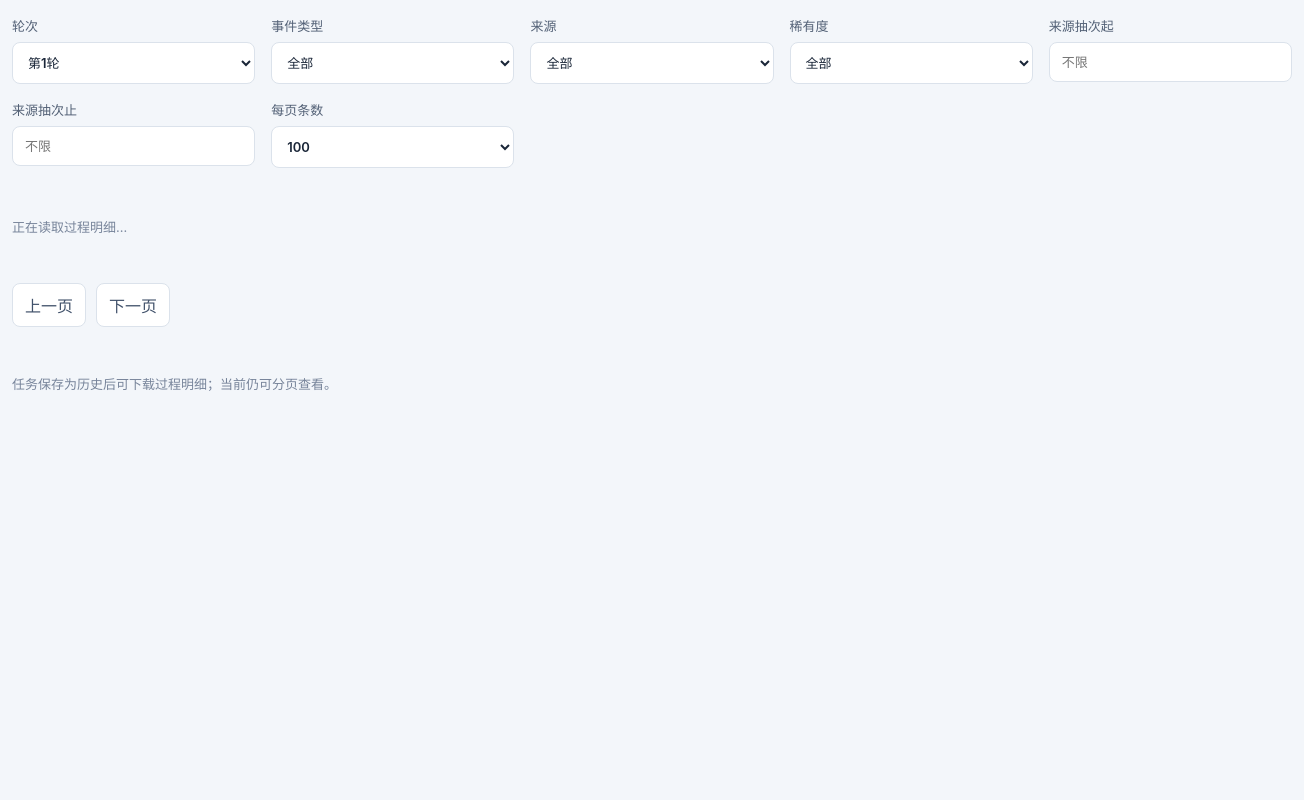
Scenario: ignores the previous filter response after the source changes
Select "主池" in the dropdown labelled "来源" at (652, 63), box left=530, top=42, right=774, bottom=84
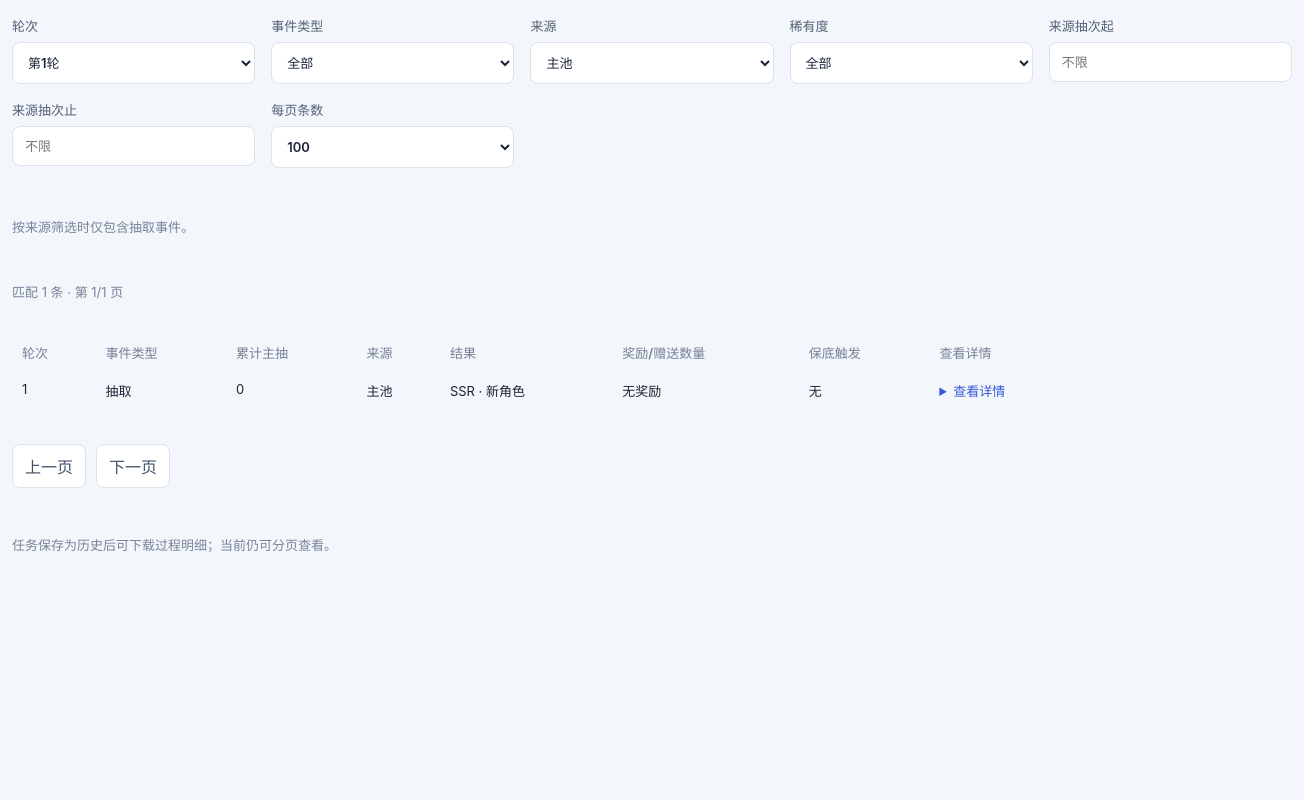
expect the text "SSR · 新角色" is shown: met, box left=440, top=372, right=612, bottom=410
